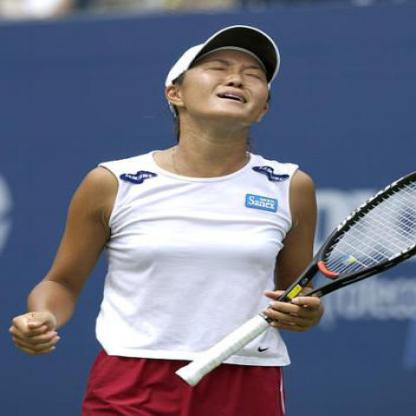face: (179, 40, 278, 128)
